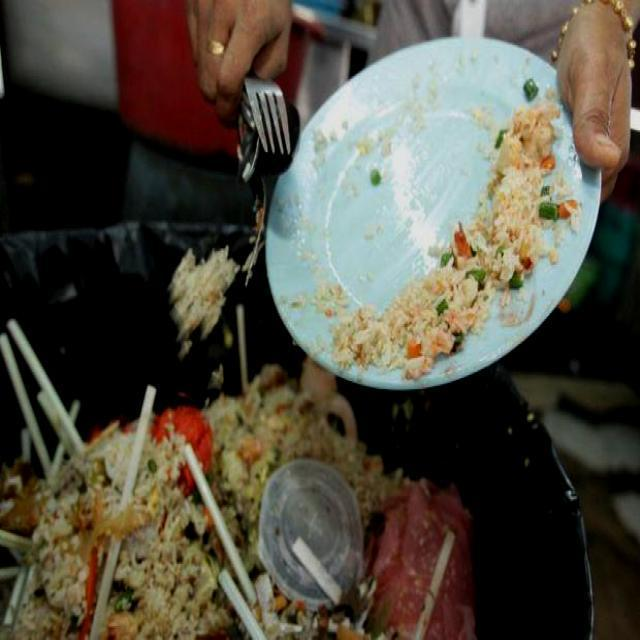Garbage: (0, 306, 475, 639), (334, 101, 579, 379)
Plastic: (259, 460, 362, 609)
Plastic_Bag: (365, 479, 474, 639)
Plastic_Straw: (185, 443, 256, 605), (414, 529, 455, 640), (120, 385, 156, 509), (119, 385, 154, 509), (291, 537, 342, 604), (219, 569, 266, 640), (89, 537, 121, 639), (255, 572, 279, 639), (235, 304, 249, 393)
